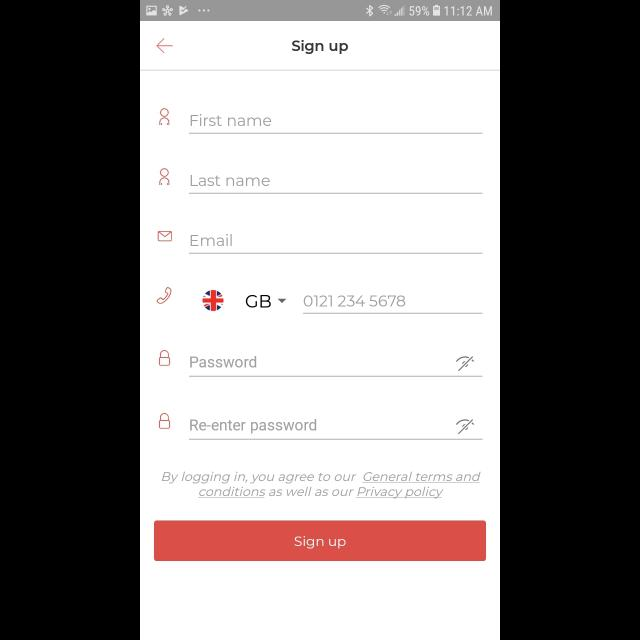icon: (456, 356, 474, 372), (156, 38, 174, 54), (456, 420, 474, 434), (160, 168, 170, 186), (160, 108, 170, 125), (158, 230, 172, 242), (160, 413, 170, 429), (160, 350, 170, 366), (278, 298, 286, 304)
image: (202, 290, 224, 312), (156, 288, 172, 304)
input: (190, 420, 482, 440), (190, 356, 482, 376), (190, 234, 482, 254), (190, 114, 482, 134), (189, 176, 483, 194), (303, 296, 483, 314)
text: (163, 471, 482, 499), (190, 418, 318, 434), (303, 296, 405, 308), (190, 114, 272, 126), (190, 176, 270, 187), (190, 356, 258, 368), (292, 41, 348, 55), (191, 234, 233, 246), (246, 294, 272, 308)
textbutton: (154, 520, 486, 560)
uppertaskbar: (140, 1, 500, 22)
